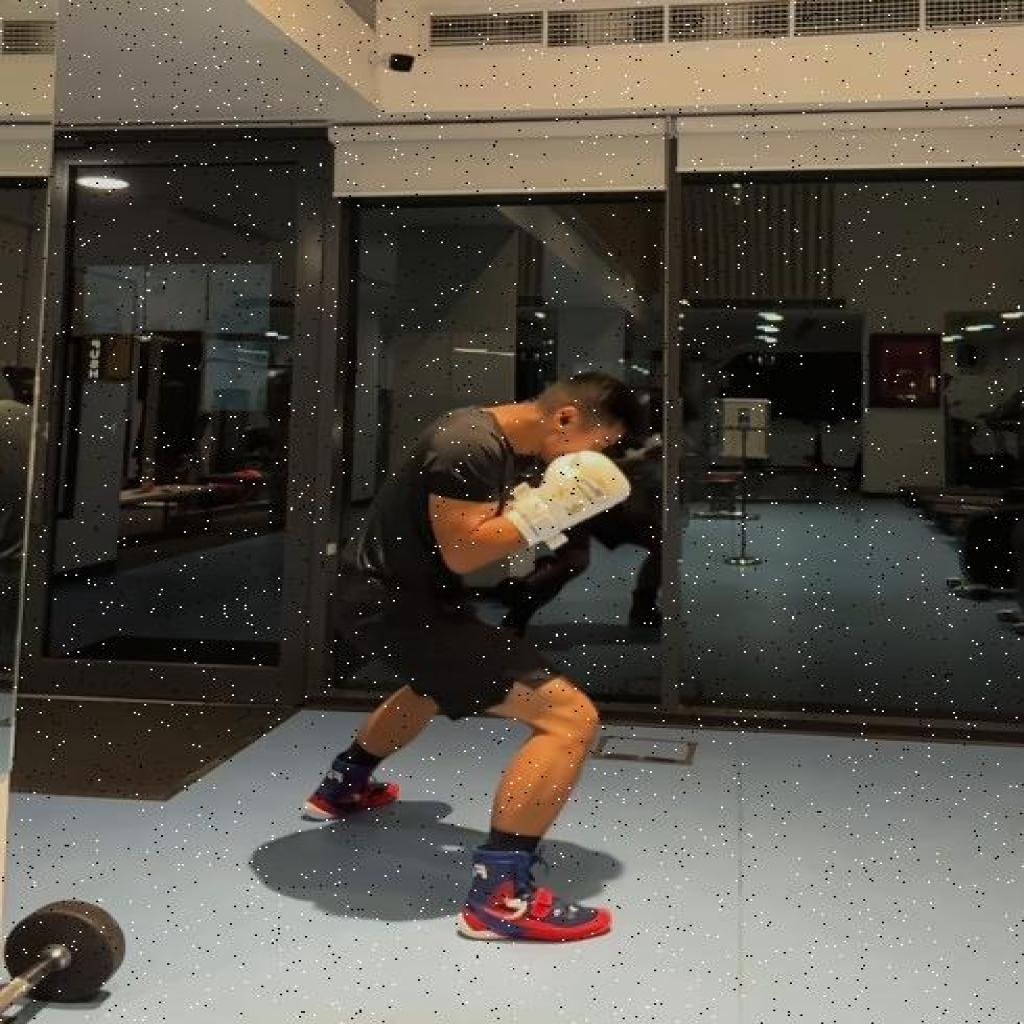no punch: (305, 370, 642, 947)
